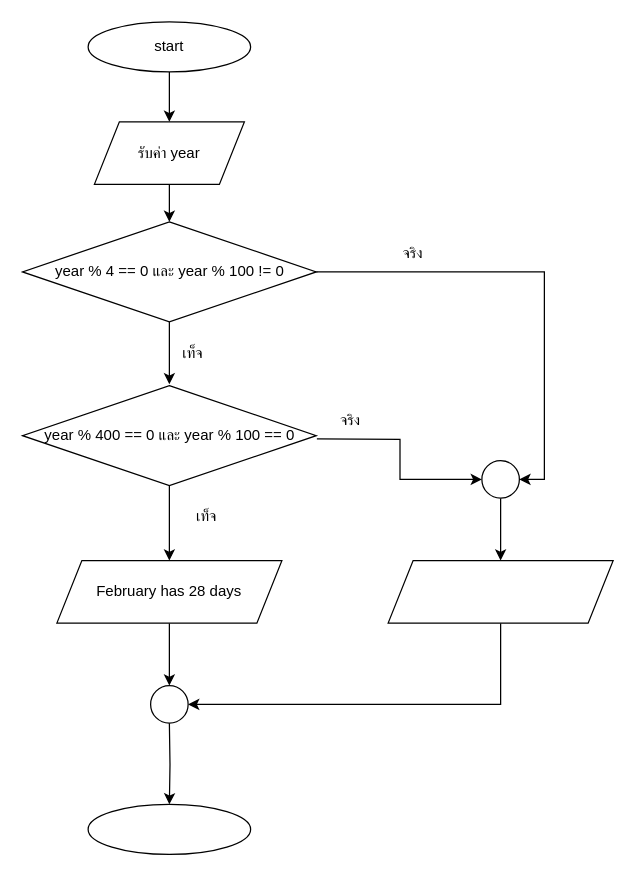
The diagram is 635 pixels wide and 876 high, and some of its shapes have lost their labels. The shapes that lost their labels are listed below. From the top down, each one's centre as x and y in pixels, then its label:
At (500,591): "February has 29 days".
At (169,828): "end".
